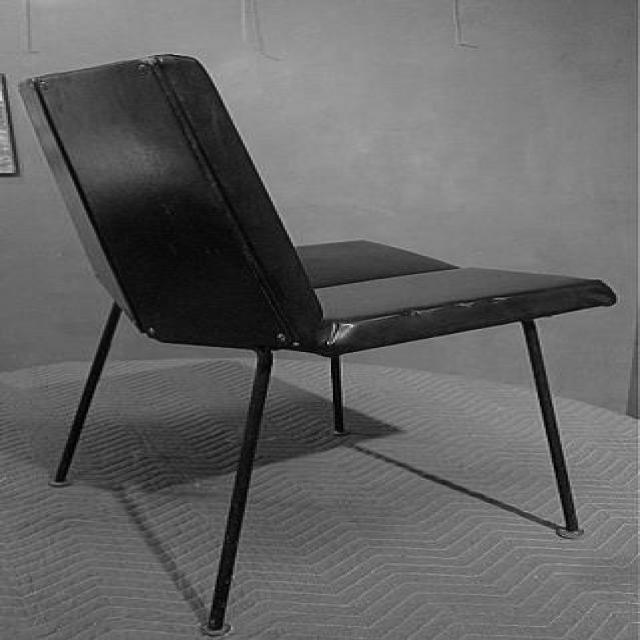chair: (24, 49, 612, 633)
